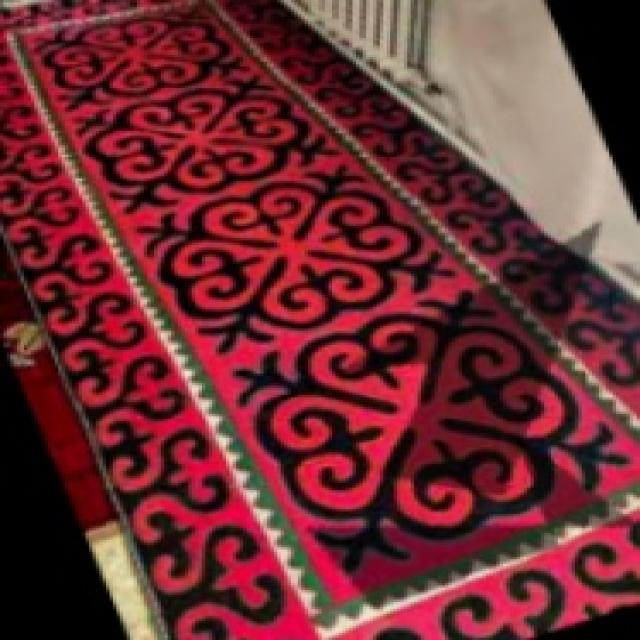Unity: (214, 281, 637, 597), (123, 158, 474, 370), (67, 68, 359, 227), (28, 6, 262, 110)
